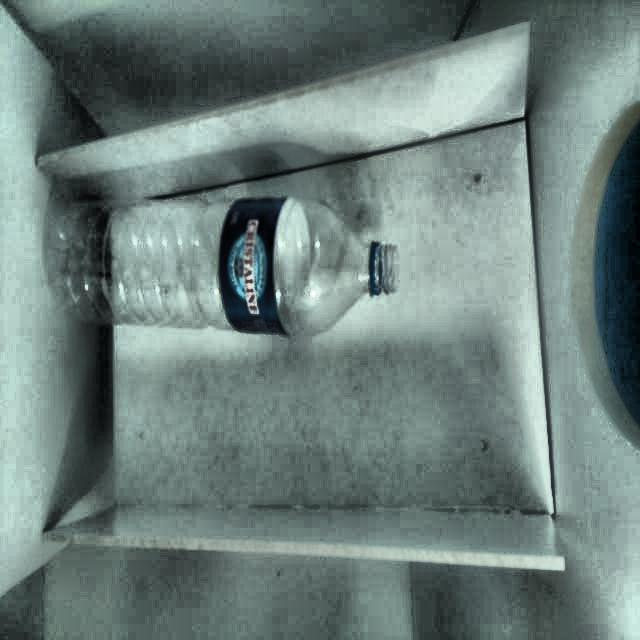plastic bottle: (50, 197, 395, 336)
